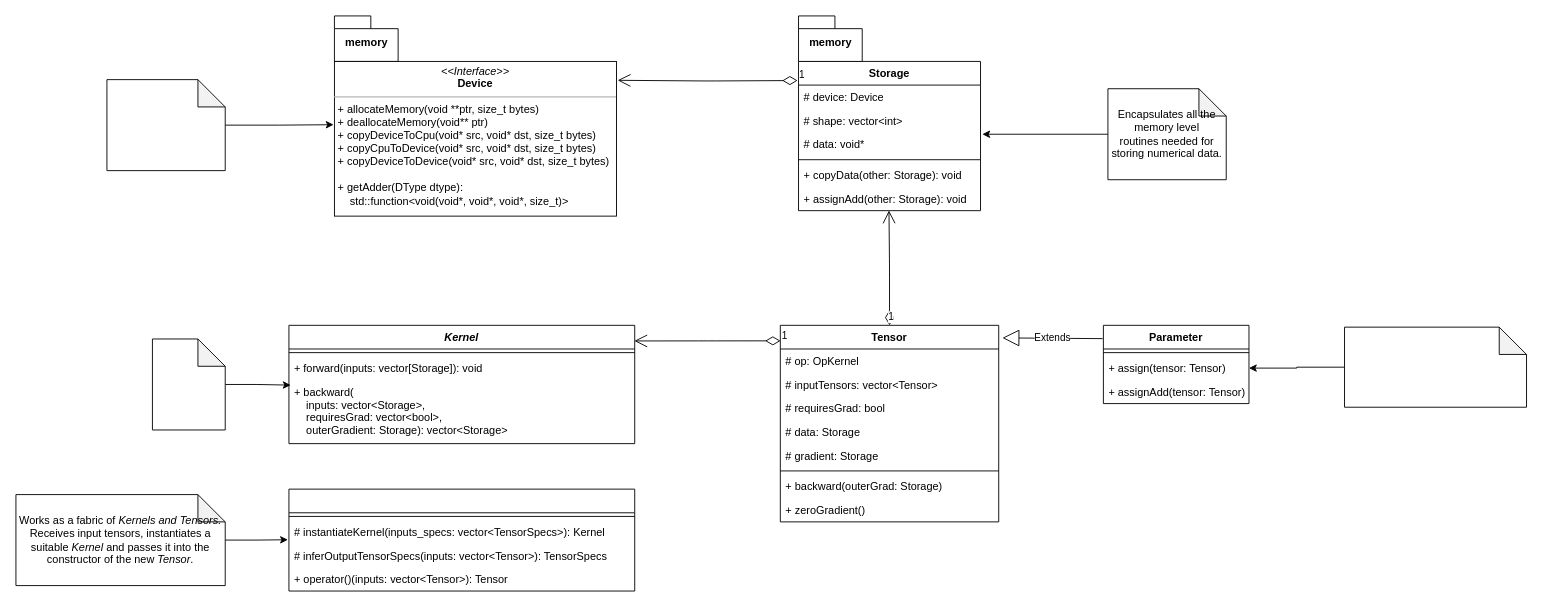
The diagram is 1542 pixels wide and 610 high, and some of its shapes have lost their labels. Each missing label, with the box of its shape:
Does memory allocation on a specific device via unified API.: (106, 79, 225, 171)
Does the actual computation.: (152, 338, 225, 430)
Op: (288, 488, 635, 591)
Represents weights of a neural network. Technically it is just a mutable tensor.: (1344, 326, 1527, 407)
